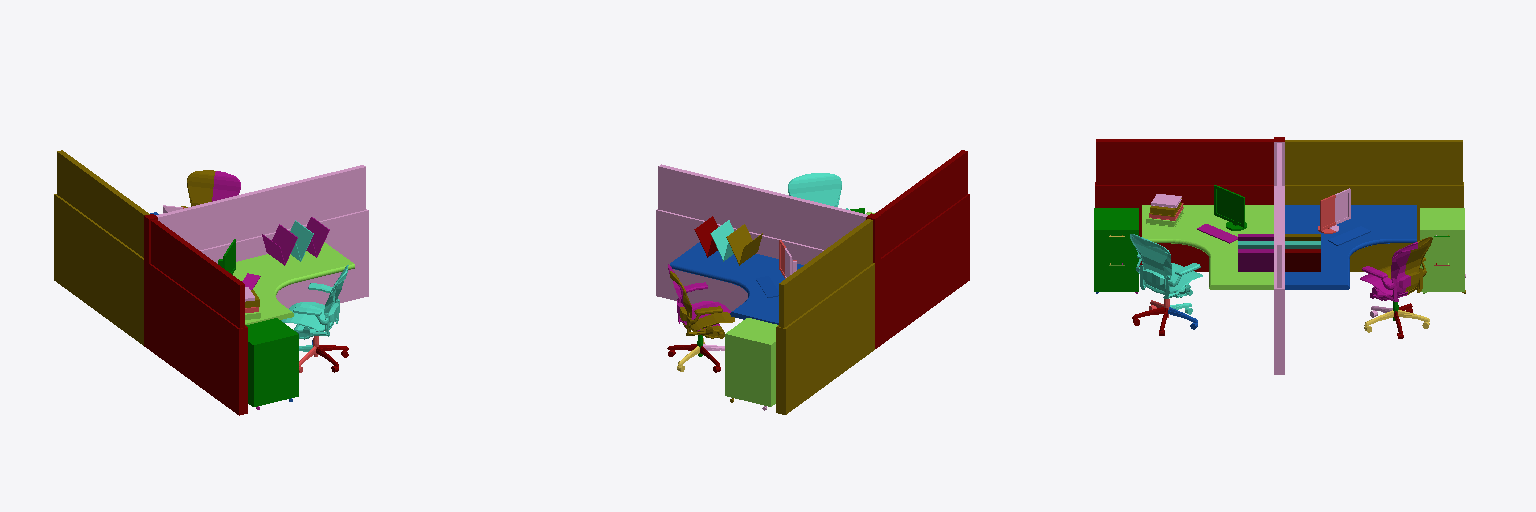
3 views of the same model, side by side, from view 1: azimuth 30°, elevation 25°; view 2: azimuth 150°, elevation 25°; view 3: azimuth 270°, elevation 25° (orthographic).
Visible parts, largest first — view 1: Group_011, Group_010, Group_013, Group_014, Group_024, Component_1_001, Component_1_010, Group_022, Component_1_004, Component_1_007, Group_023, Group_021; view 2: Group_010, Group_013, Group_011, Group_029, Group_028, Component_1_010, Component_1_001, Group_026, Component_1_007, Component_1_004, Group_027, Group_025; view 3: Group_013, Group_011, Group_028, Group_024, Group_014, Group_029, Group_010, Component_1_007, Component_1_004, Component_1_010, Component_1_001, Group_027 (+5 smaller).
Boxes of the visible parts, x1=… form: Group_011: x1=144, y1=214, x2=247, y2=415; Group_010: x1=156, y1=165, x2=368, y2=308; Group_013: x1=54, y1=150, x2=149, y2=345; Group_014: x1=246, y1=318, x2=298, y2=406; Group_024: x1=233, y1=242, x2=354, y2=324; Component_1_001: x1=281, y1=272, x2=346, y2=339; Component_1_010: x1=181, y1=170, x2=215, y2=207; Group_022: x1=262, y1=224, x2=297, y2=265; Component_1_004: x1=289, y1=265, x2=348, y2=331; Component_1_007: x1=212, y1=171, x2=240, y2=201; Group_023: x1=306, y1=217, x2=329, y2=257; Group_021: x1=290, y1=220, x2=313, y2=261; Group_010: x1=656, y1=164, x2=867, y2=311; Group_013: x1=776, y1=219, x2=874, y2=414; Group_011: x1=866, y1=150, x2=969, y2=348; Group_029: x1=725, y1=318, x2=777, y2=406; Group_028: x1=670, y1=242, x2=803, y2=324; Component_1_010: x1=670, y1=271, x2=734, y2=338; Component_1_001: x1=813, y1=173, x2=848, y2=209; Group_026: x1=726, y1=224, x2=762, y2=265; Component_1_007: x1=668, y1=264, x2=730, y2=331; Component_1_004: x1=788, y1=173, x2=816, y2=201; Group_027: x1=694, y1=216, x2=717, y2=257; Group_025: x1=710, y1=220, x2=733, y2=261; Group_013: x1=1285, y1=140, x2=1463, y2=271; Group_011: x1=1095, y1=137, x2=1284, y2=271; Group_028: x1=1285, y1=205, x2=1416, y2=289; Group_024: x1=1142, y1=205, x2=1273, y2=289; Group_014: x1=1094, y1=208, x2=1138, y2=291; Group_029: x1=1420, y1=208, x2=1464, y2=291; Group_010: x1=1274, y1=142, x2=1284, y2=374; Component_1_007: x1=1360, y1=242, x2=1417, y2=301; Component_1_004: x1=1145, y1=239, x2=1202, y2=298; Component_1_010: x1=1380, y1=237, x2=1432, y2=294; Component_1_001: x1=1130, y1=234, x2=1182, y2=291; Group_027: x1=1285, y1=249, x2=1320, y2=271.
Size of the model in its own units: 96 by 54.5 by 141.